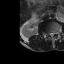CCS_normal: (51, 30, 52, 39)
LFS_stenosis: (54, 30, 57, 36)
LLS_normal: (52, 30, 54, 36)
RFS_stenosis: (47, 31, 49, 36)
RLS_normal: (49, 31, 51, 37)
